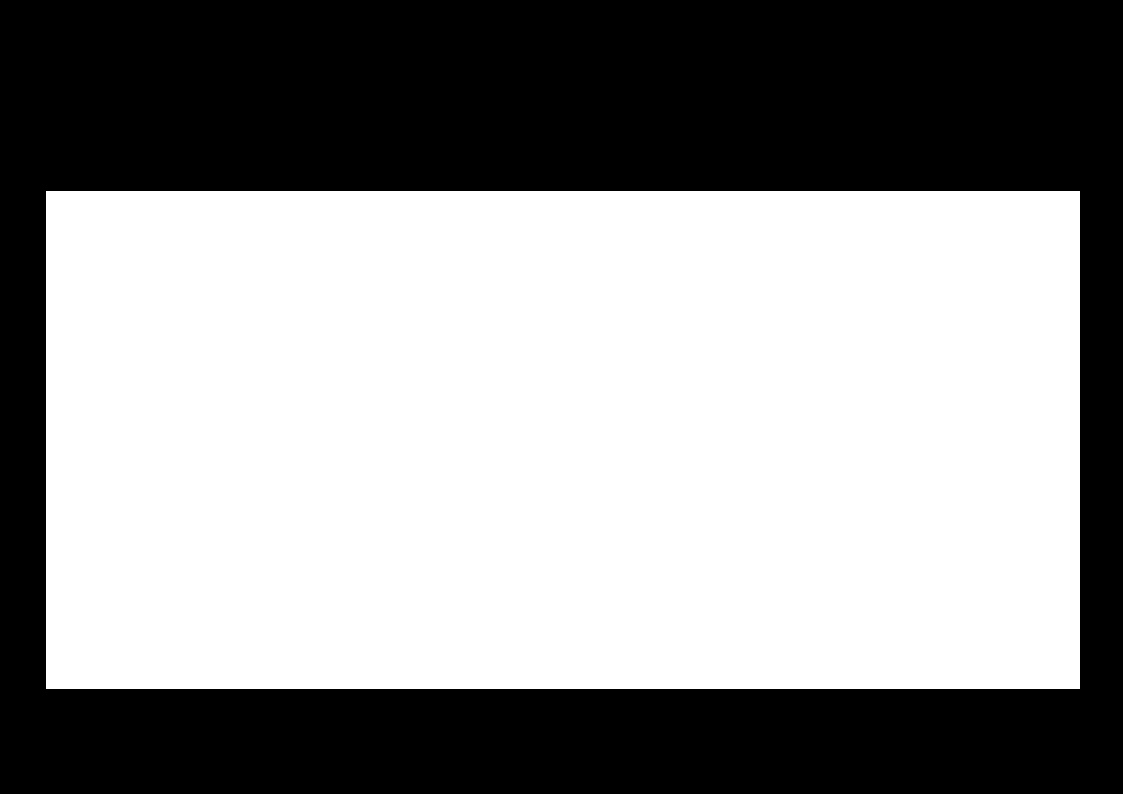table: (46, 191, 1079, 688)
